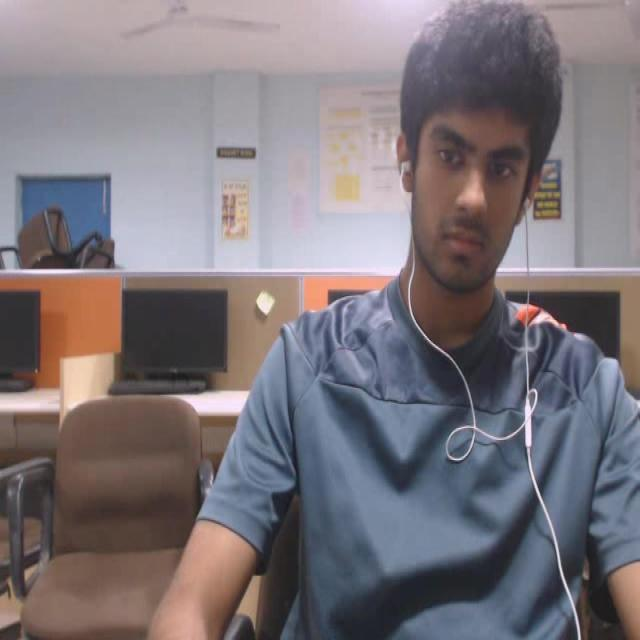Bored: (373, 0, 562, 341)
